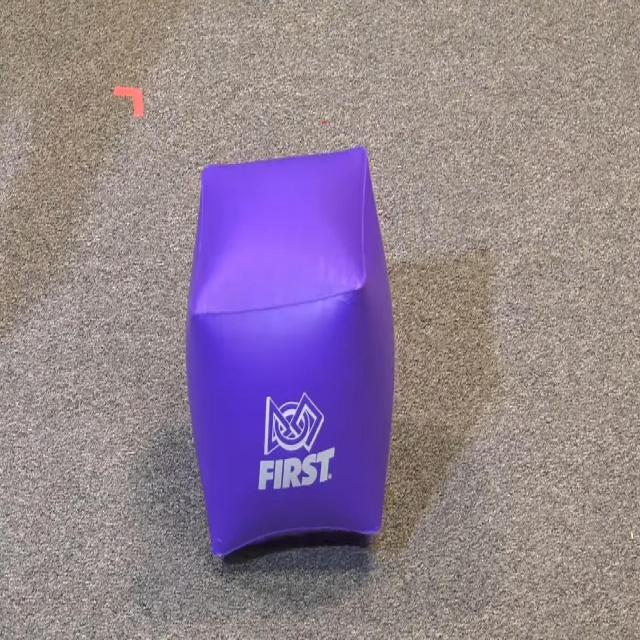frc_cube: (186, 146, 394, 565)
